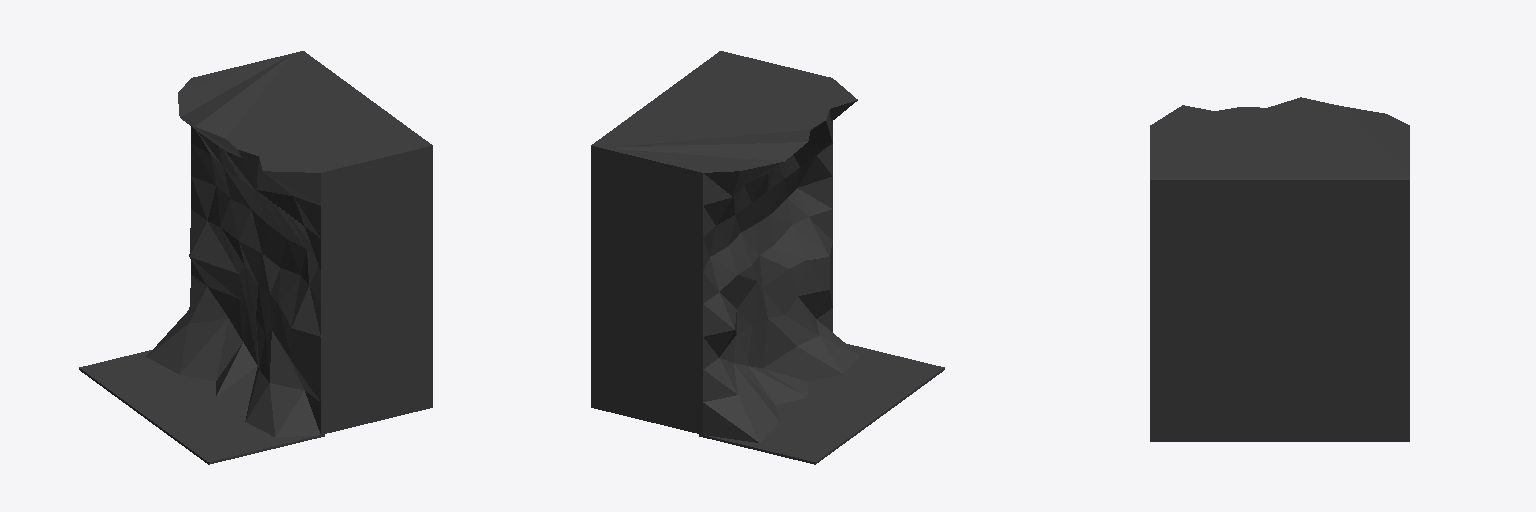
Rendered from Rock Wall 002.obj.
The picture shows the model from 3 angles: view 1: azimuth 30°, elevation 25°; view 2: azimuth 150°, elevation 25°; view 3: azimuth 270°, elevation 25°; orthographic projection.
Parts seen in each view (by area): view 1: Rock Wall 002; view 2: Rock Wall 002; view 3: Rock Wall 002.
Boxes of the visible parts, box(x1,y1,x2,y2) form: Rock Wall 002: box(79, 51, 432, 464); Rock Wall 002: box(591, 51, 944, 464); Rock Wall 002: box(1150, 97, 1409, 441).
Size of the model in its own units: 50 by 57.05 by 50.01.